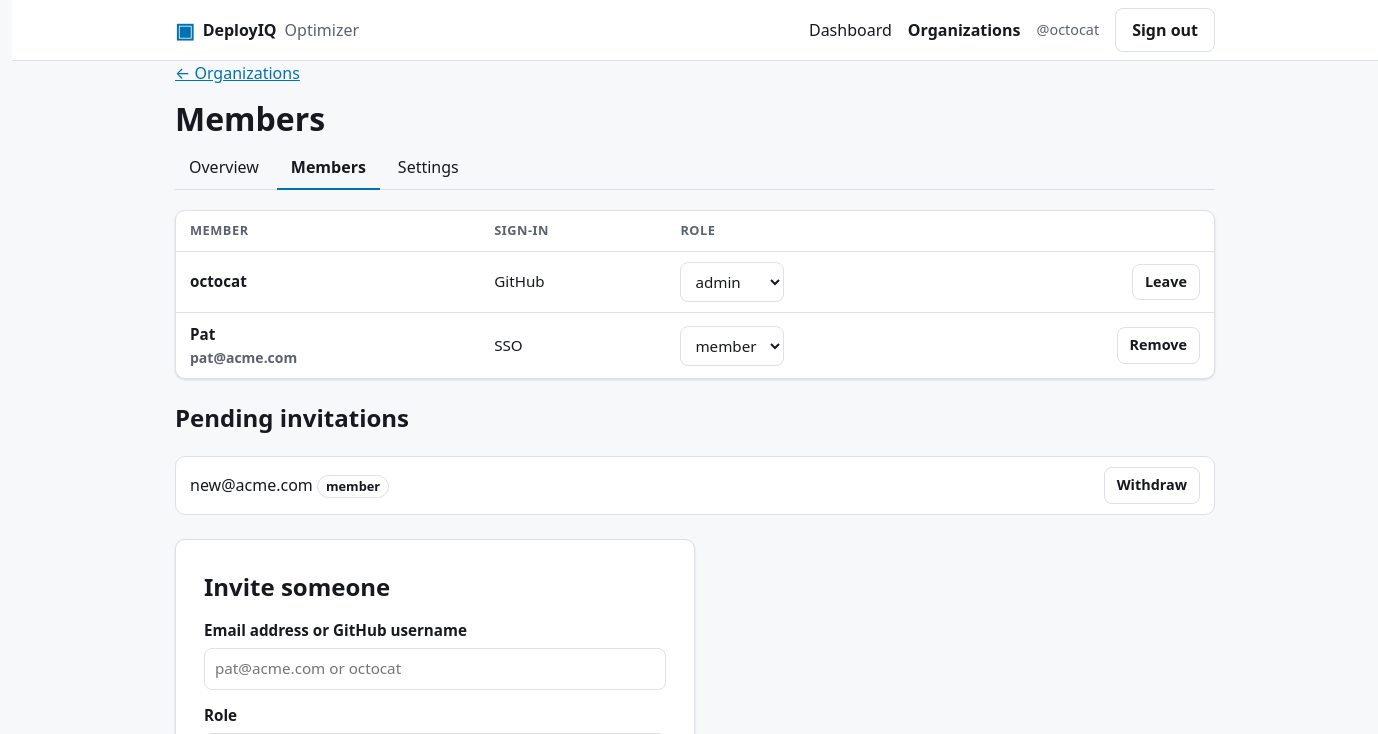
it: organizations › manages members as an admin
Expected: the column heading "Pat" is shown, 190,324 -> 215,344
Expected: the text "SSO" is shown, 480,312 -> 666,378
Step 1. Select "admin" in the dropdown named "Role of pat@acme.com" → coordinates (732, 346), box 680,326 -> 784,366
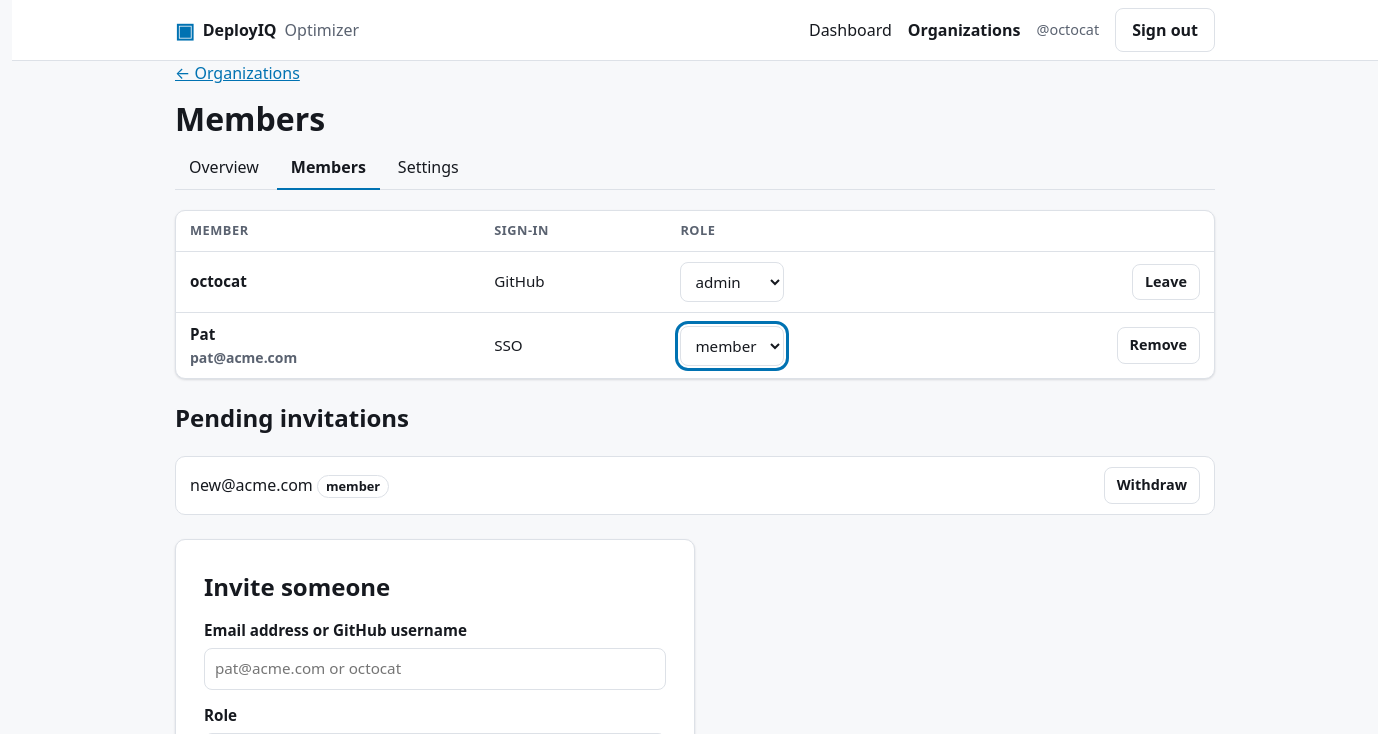
Step 2. Type "@hubot" into the field labelled "Email address or GitHub username" → coordinates (435, 669), box 204,648 -> 666,690
(page scrolled)
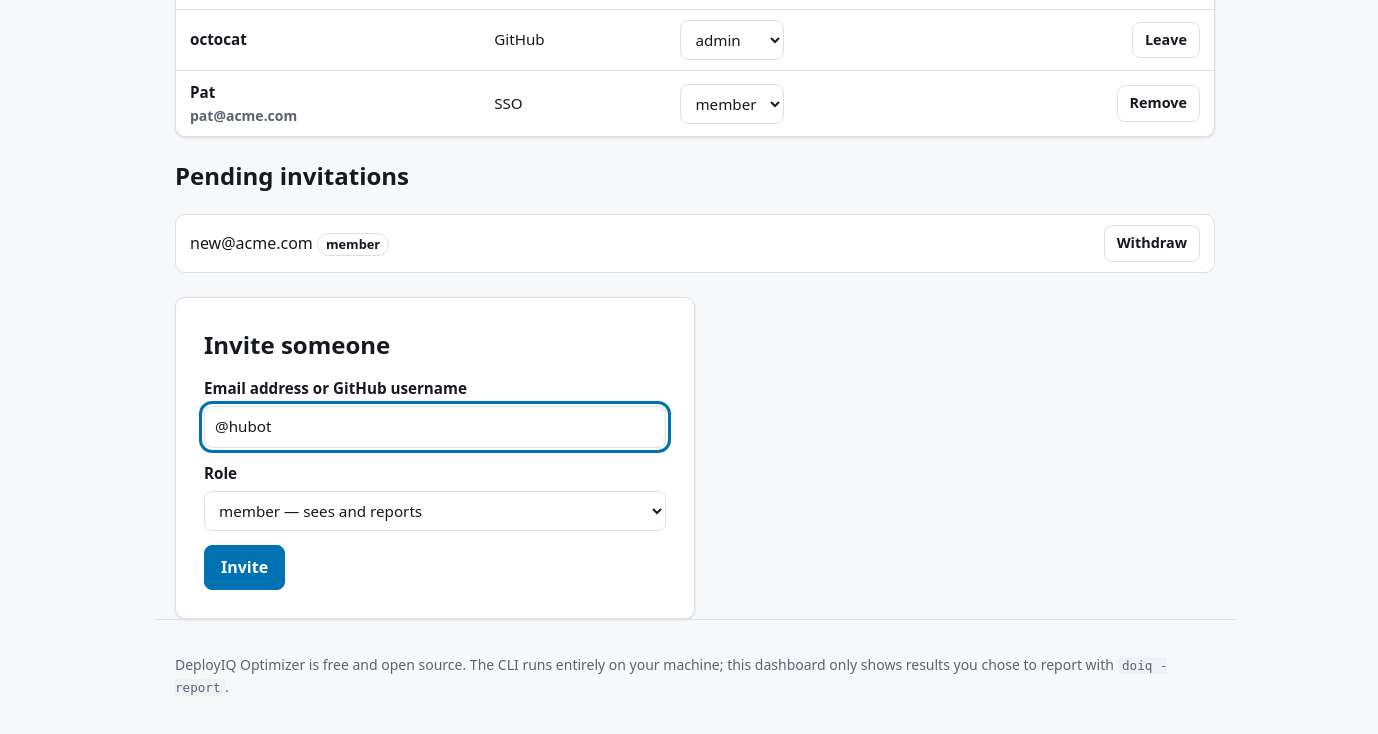
Step 3. Click the button "Invite" → coordinates (245, 568), box 204,545 -> 285,590
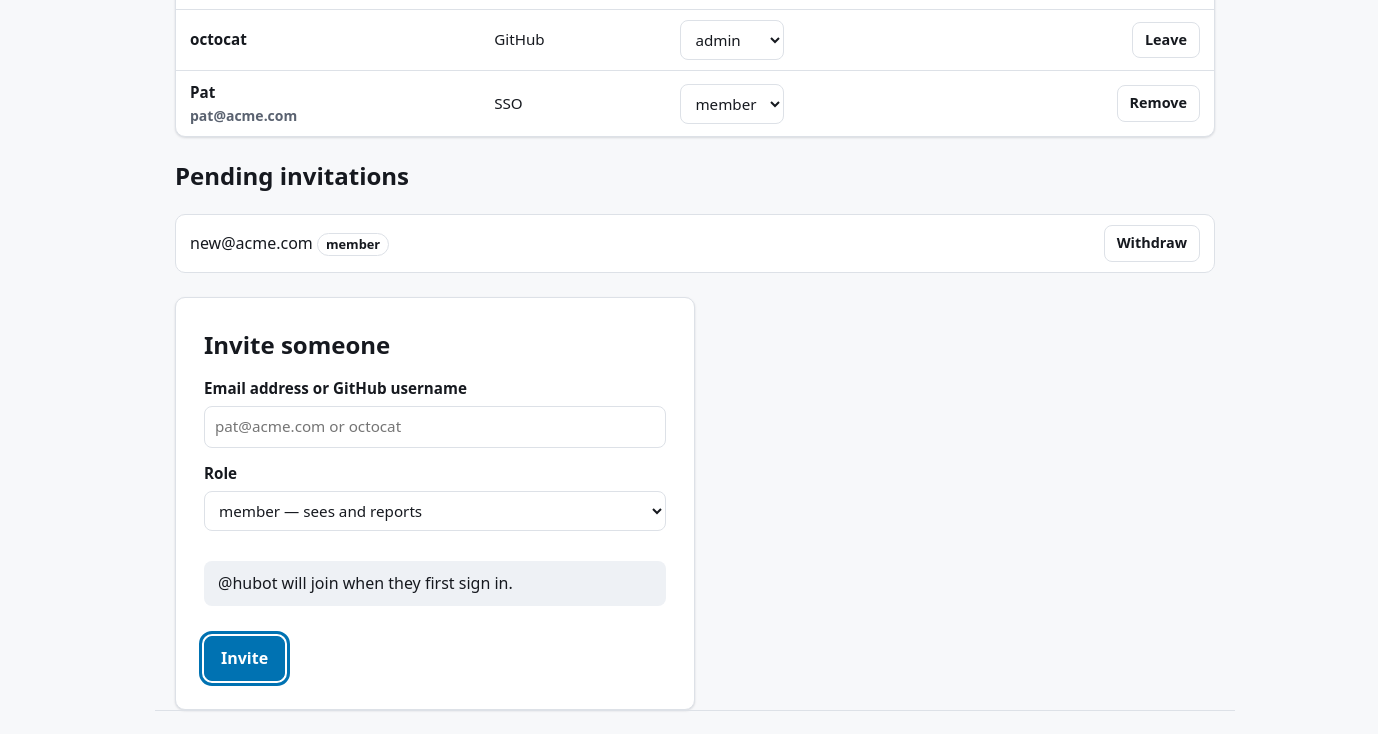
Expected: the text "@hubot will join when they first sign in." is shown, 204,561 -> 666,606
